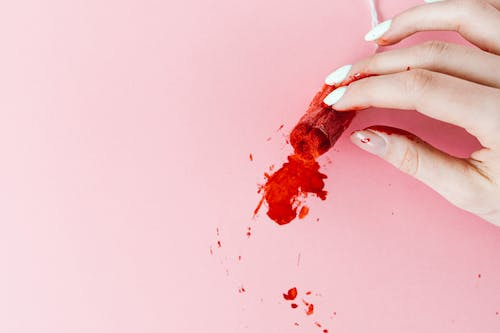blood: (208, 119, 500, 333), (320, 32, 429, 146), (288, 79, 358, 162)
